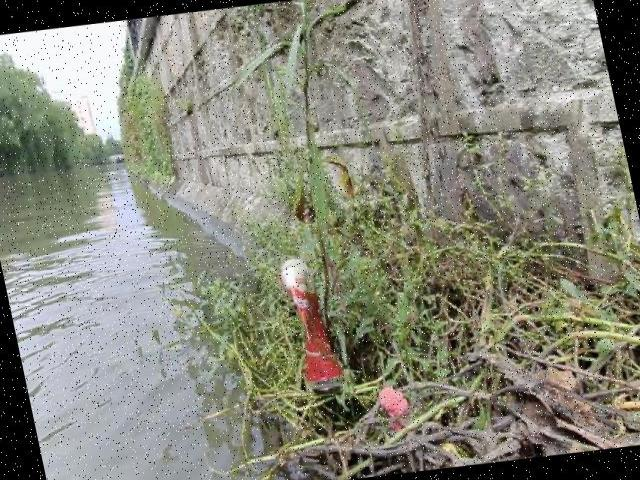Waste: (269, 254, 349, 390), (379, 386, 418, 433)
